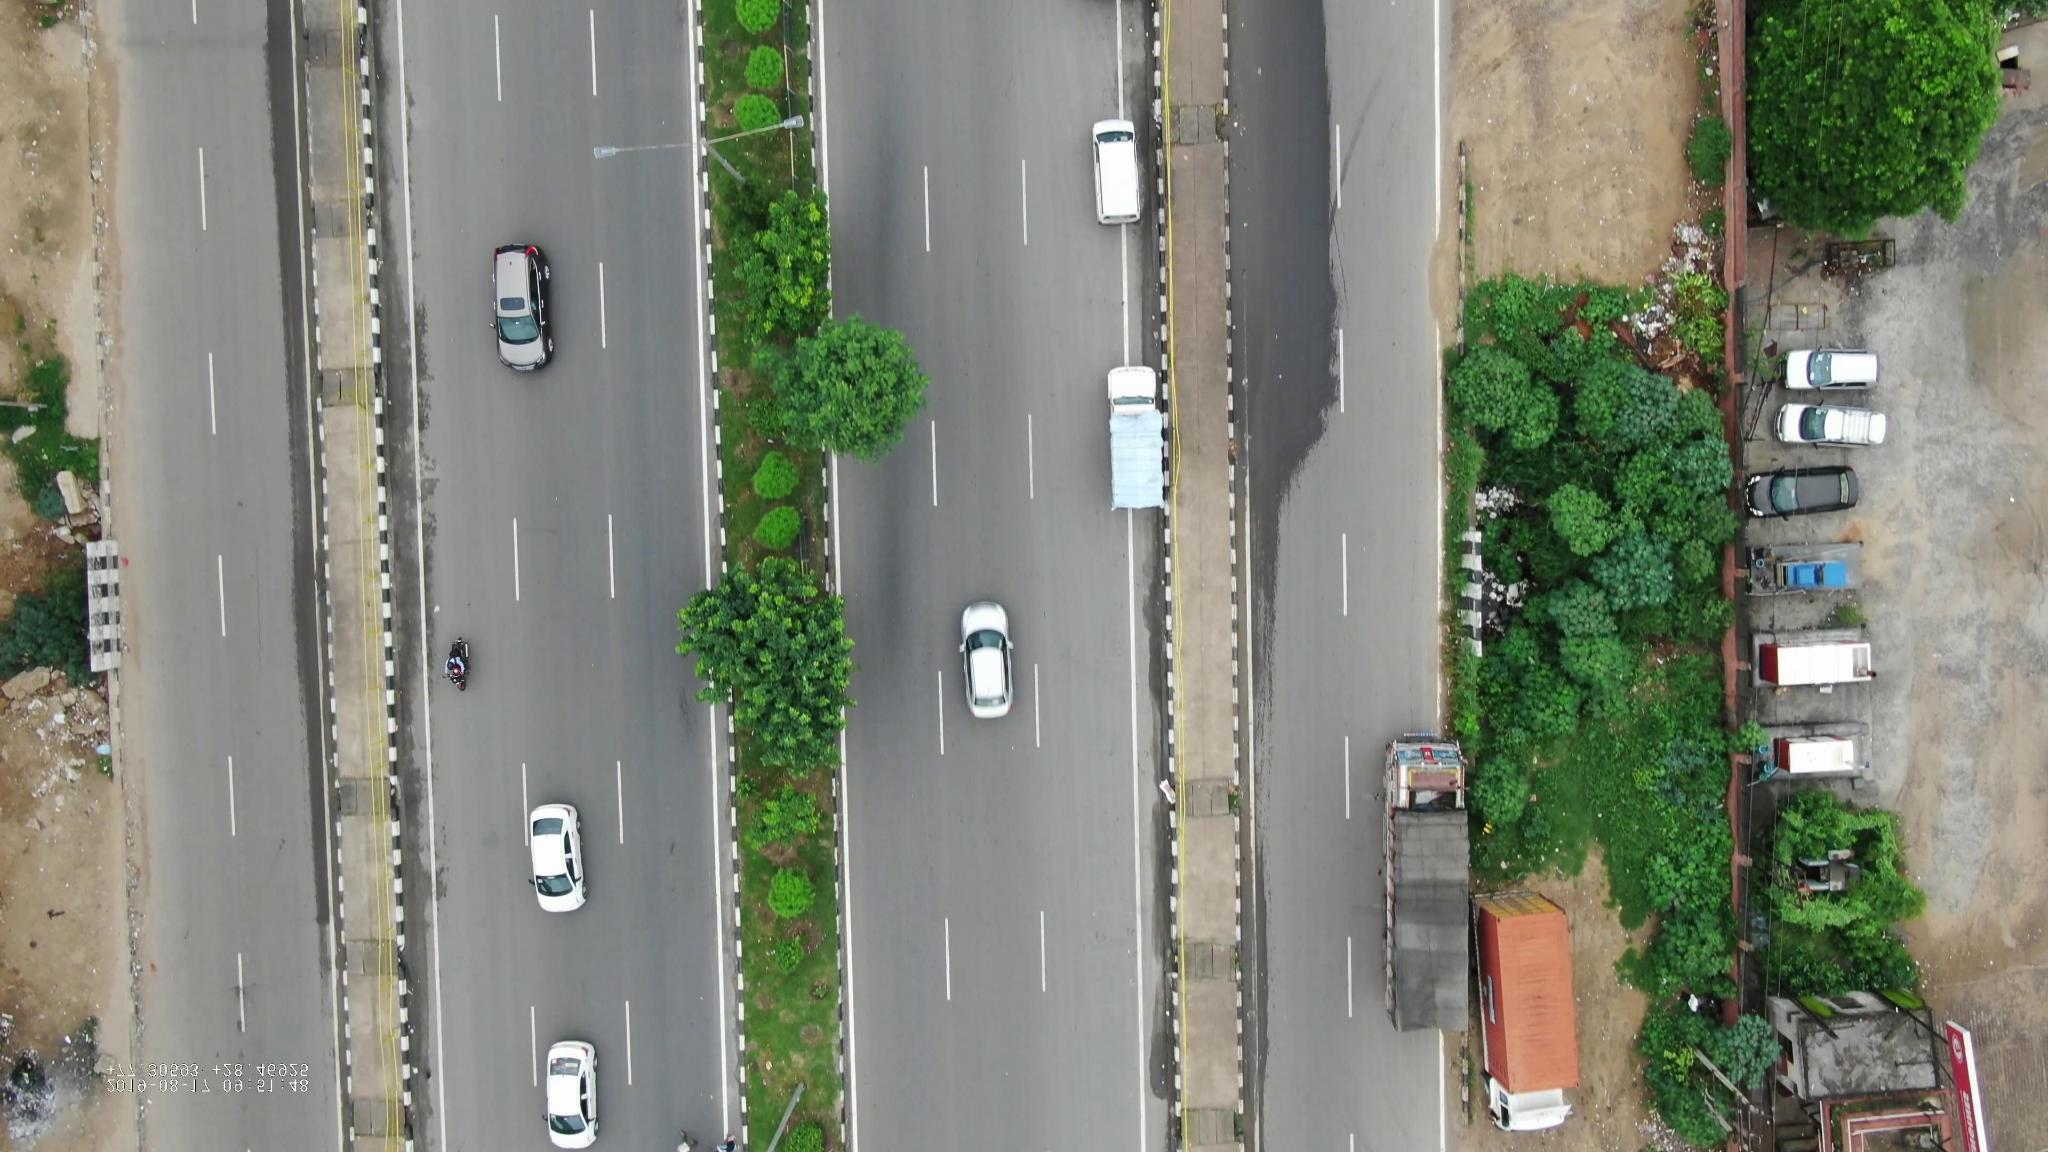Muddy_road: (89, 77, 135, 437), (96, 760, 153, 1032)
